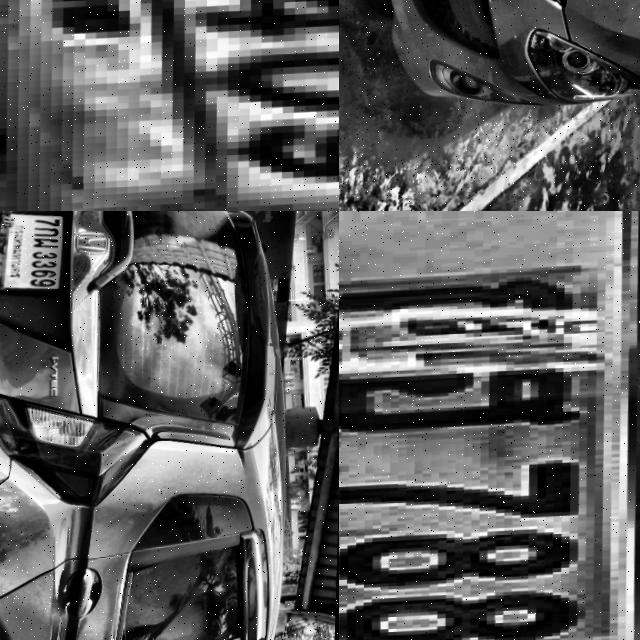license-plate: (339, 211, 640, 640), (0, 0, 339, 211), (0, 211, 79, 297)
